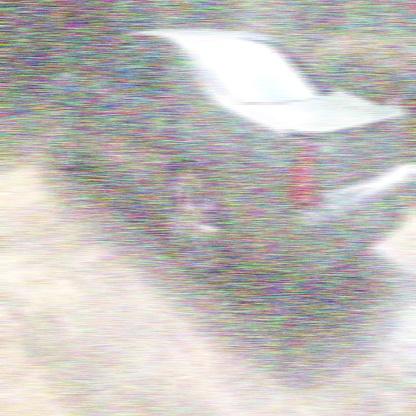Vehicle: (29, 35, 414, 292)
